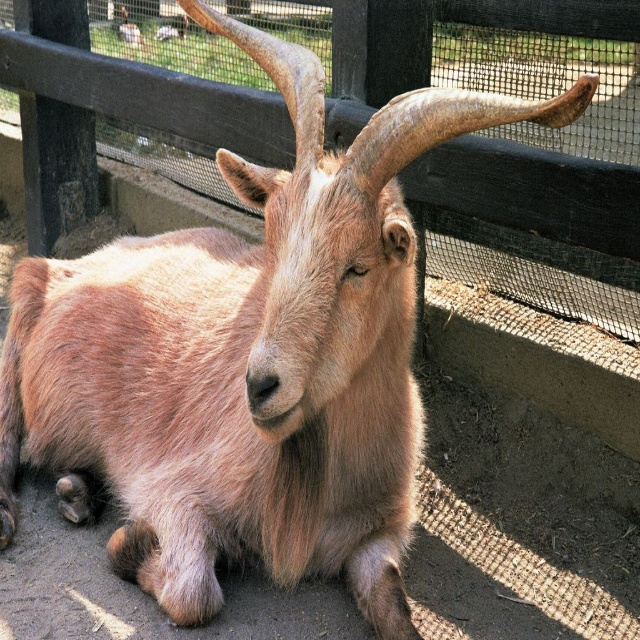Goat: (0, 0, 597, 639)
